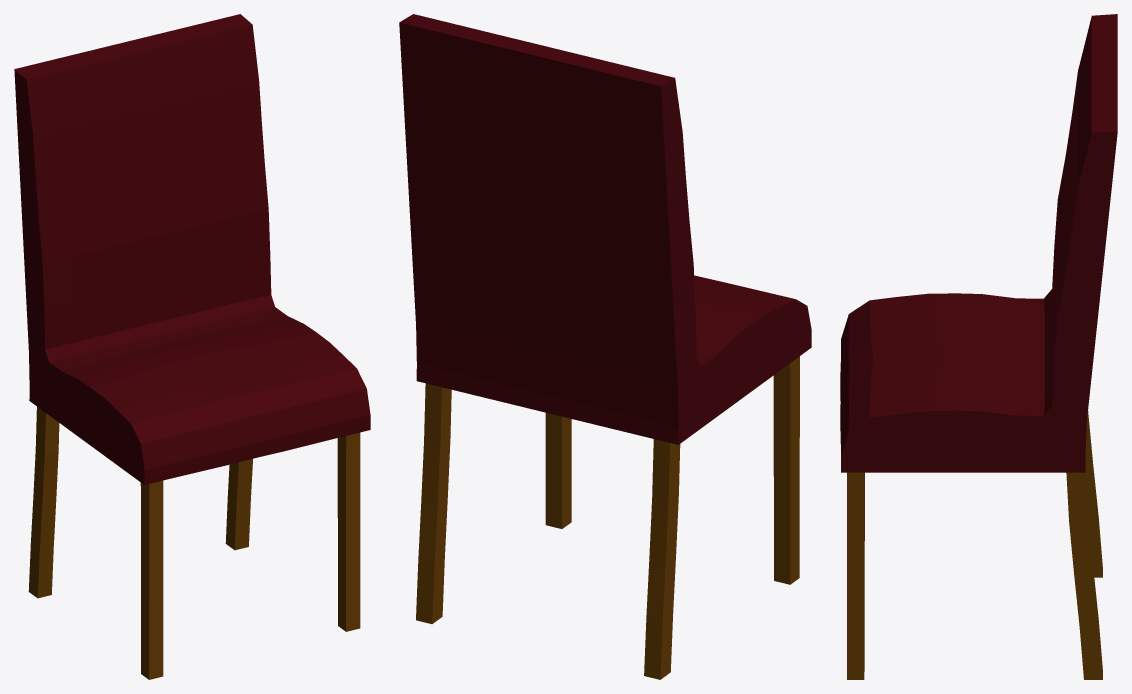
Rendered from curveBackChair.fbx.
The picture shows the model from 3 angles, left to right: view 1: azimuth 30°, elevation 25°; view 2: azimuth 150°, elevation 25°; view 3: azimuth 270°, elevation 25°; orthographic projection. The views are drawn at different scales.
Parts seen in each view (by area): view 1: curveBackChair; view 2: curveBackChair; view 3: curveBackChair.
Part boxes in pixels (x1,y1,x2,y2): curveBackChair: [14, 14, 370, 679]; curveBackChair: [399, 14, 811, 679]; curveBackChair: [840, 14, 1117, 679].
Bounding box in the file's own units: 50 × 110 × 50.
